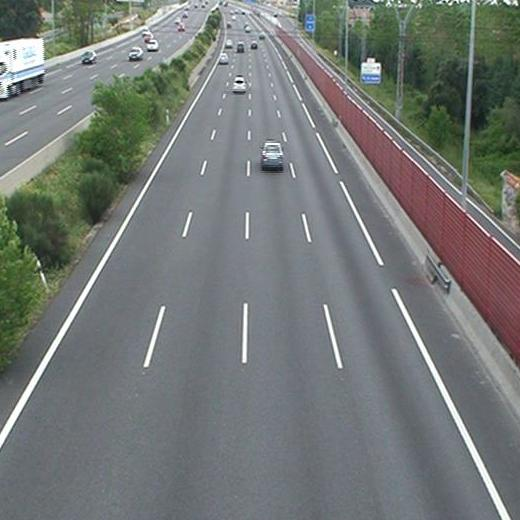car: (261, 142, 284, 167), (232, 78, 247, 92), (235, 42, 244, 51), (219, 54, 227, 63), (224, 40, 231, 47), (250, 42, 258, 48)
